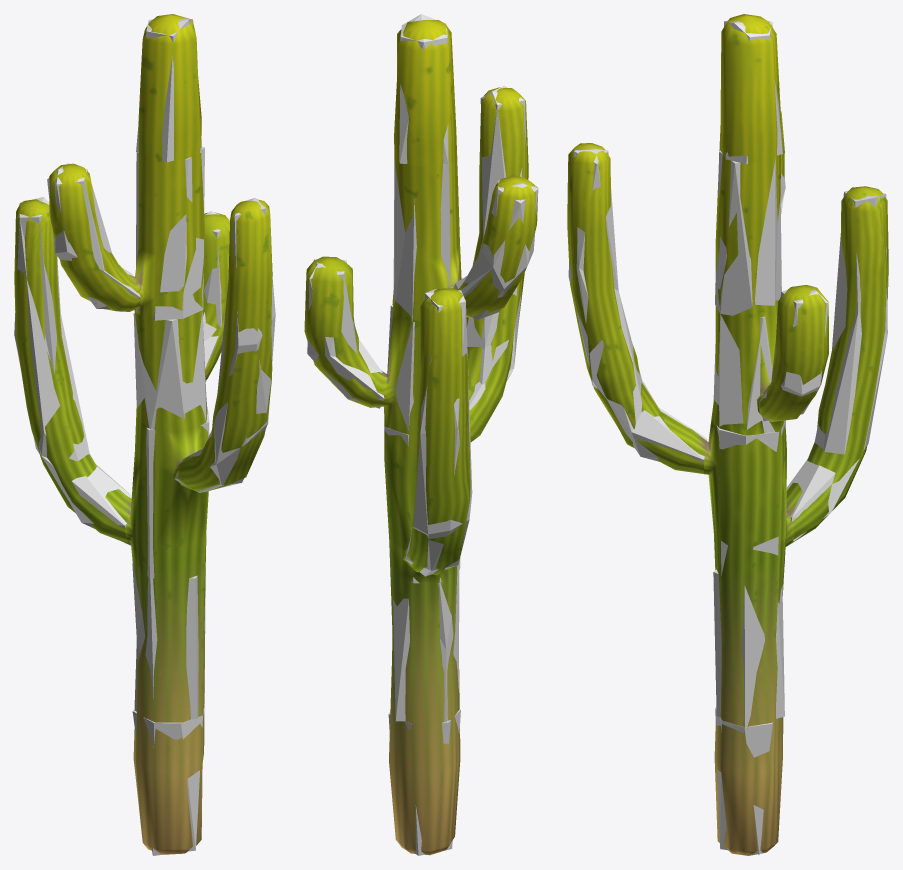
The model's file is Fractured_5.fbx.
The picture shows the model from 3 angles, left to right: view 1: azimuth 30°, elevation 25°; view 2: azimuth 150°, elevation 25°; view 3: azimuth 270°, elevation 25°; orthographic projection.
Visible parts, largest first — view 1: cactus_5_branch_2, cactus_5_branch_1, cactus_5_body_3, cactus_5_body_5, cactus_5_body_1, cactus_5_body_2, cactus_5_body_6, cactus_5_branch_1_cd, cactus_5_branch_4, cactus_5_body_4_cd, cactus_5_body_4, cactus_5_body_5_cd (+8 smaller); view 2: cactus_5_branch_1, cactus_5_body_1, cactus_5_body_6, cactus_5_branch_2, cactus_5_body_2, cactus_5_body_5, cactus_5_branch_3, cactus_5_branch_4, cactus_5_body_3, cactus_5_branch_2_cd, cactus_5_branch_1_cd, cactus_5_body_5_cd (+7 smaller); view 3: cactus_5_branch_2, cactus_5_branch_1, cactus_5_body_3, cactus_5_body_6, cactus_5_body_1, cactus_5_body_2, cactus_5_branch_1_cd, cactus_5_branch_3, cactus_5_body_5_cd, cactus_5_branch_2_cd, cactus_5_body_5, cactus_5_body_2_cd (+6 smaller).
Part boxes in pixels (bbox=[...]): cactus_5_branch_2: bbox=[175, 200, 272, 492]; cactus_5_branch_1: bbox=[14, 199, 131, 543]; cactus_5_body_3: bbox=[125, 417, 209, 579]; cactus_5_body_5: bbox=[134, 153, 205, 319]; cactus_5_body_1: bbox=[133, 712, 204, 854]; cactus_5_body_2: bbox=[133, 565, 205, 722]; cactus_5_body_6: bbox=[138, 14, 201, 161]; cactus_5_branch_1_cd: bbox=[14, 197, 131, 545]; cactus_5_branch_4: bbox=[49, 163, 140, 311]; cactus_5_body_4_cd: bbox=[133, 311, 206, 429]; cactus_5_body_4: bbox=[135, 310, 207, 430]; cactus_5_body_5_cd: bbox=[136, 146, 204, 320]; cactus_5_branch_1: bbox=[403, 288, 470, 575]; cactus_5_body_1: bbox=[389, 709, 460, 855]; cactus_5_body_6: bbox=[394, 20, 456, 166]; cactus_5_branch_2: bbox=[466, 87, 528, 442]; cactus_5_body_2: bbox=[390, 572, 459, 723]; cactus_5_body_5: bbox=[392, 153, 461, 322]; cactus_5_branch_3: bbox=[304, 256, 385, 407]; cactus_5_branch_4: bbox=[453, 176, 537, 317]; cactus_5_body_3: bbox=[384, 430, 457, 583]; cactus_5_branch_2_cd: bbox=[466, 85, 526, 410]; cactus_5_branch_1_cd: bbox=[405, 289, 472, 576]; cactus_5_body_5_cd: bbox=[393, 160, 450, 321]; cactus_5_branch_2: bbox=[567, 143, 706, 473]; cactus_5_branch_1: bbox=[786, 186, 888, 544]; cactus_5_body_3: bbox=[704, 416, 794, 585]; cactus_5_body_6: bbox=[719, 14, 781, 164]; cactus_5_body_1: bbox=[714, 717, 783, 855]; cactus_5_body_2: bbox=[715, 565, 784, 726]; cactus_5_branch_1_cd: bbox=[786, 190, 887, 541]; cactus_5_branch_3: bbox=[759, 285, 828, 421]; cactus_5_body_5_cd: bbox=[715, 150, 781, 315]; cactus_5_branch_2_cd: bbox=[568, 148, 706, 461]; cactus_5_body_5: bbox=[715, 149, 780, 318]; cactus_5_body_2_cd: bbox=[713, 569, 784, 726].
Size of the model in its own units: 605 by 2336 by 817.
